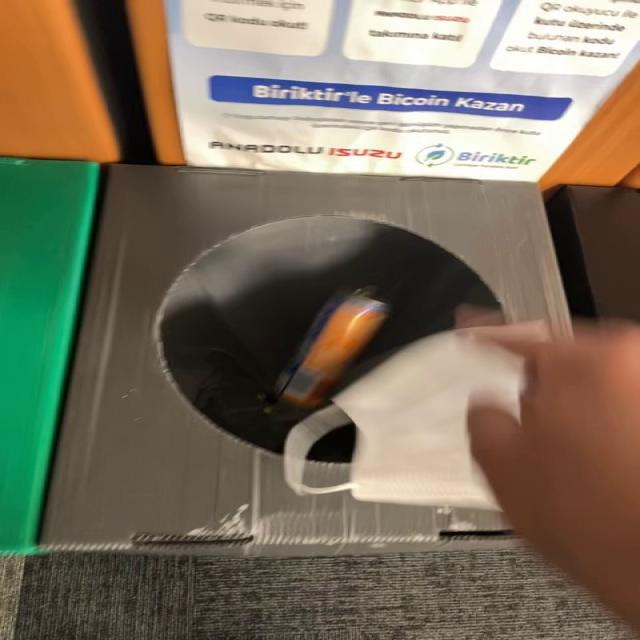bin: (40, 165, 571, 556)
metal: (276, 287, 389, 408)
